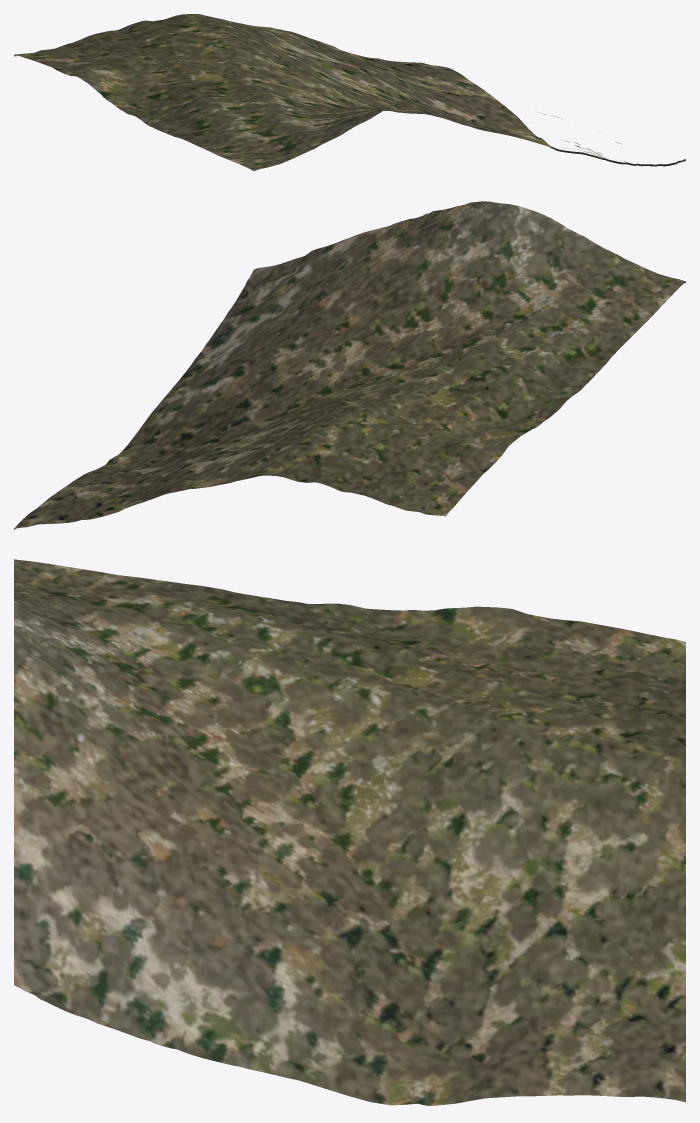
3 renders of one model, top to bottom at view 1: azimuth 30°, elevation 25°; view 2: azimuth 150°, elevation 25°; view 3: azimuth 270°, elevation 25°, orthographic. The views are drawn at different scales.
Size of the model in its own units: 250 by 120 by 241.
Materials: 1 (1 with a texture image).
